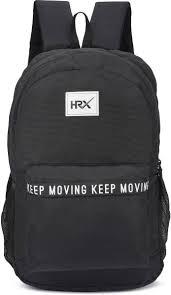backpack: (0, 0, 170, 292)
